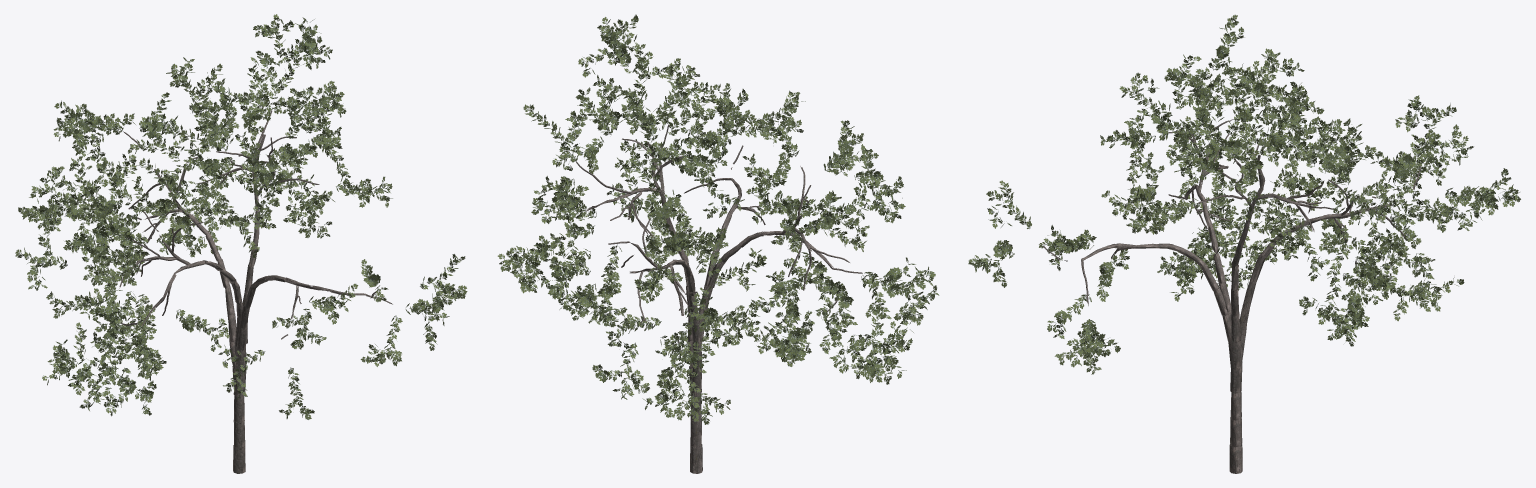
Rendered from elm4.glb.
3 views of the same model, side by side, from view 1: azimuth 30°, elevation 25°; view 2: azimuth 150°, elevation 25°; view 3: azimuth 270°, elevation 25° (orthographic). The views are drawn at different scales.
Visible parts, largest first — view 1: leaves, bark; view 2: leaves, bark; view 3: leaves, bark.
Part boxes in pixels (<box>): leaves: <box>15,14,467,419</box>; bark: <box>119,109,392,473</box>; leaves: <box>497,14,939,424</box>; bark: <box>575,124,862,473</box>; leaves: <box>968,14,1520,374</box>; bark: <box>1043,119,1421,473</box>.
Size of the model in its own units: 20.7 by 24.05 by 26.87.
Materials: 2 (2 with a texture image).
